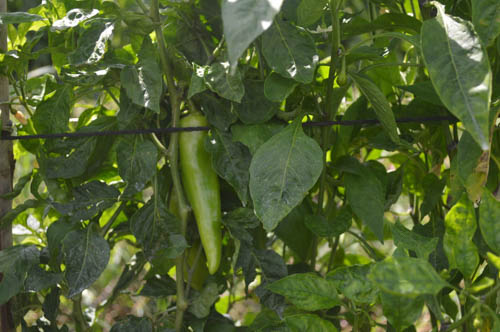ChiliPepper: (179, 118, 226, 272)
